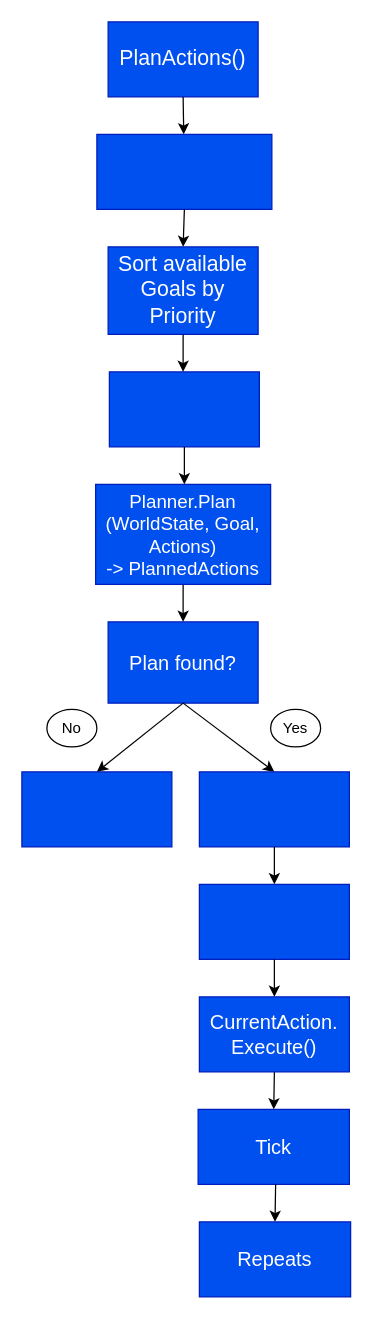
This 373x1319 diagram has some shape labels left out. Each missing label, with the centre of its shape:
"EcxecutePlan()" goes at (273,809).
"Log failure, exit" goes at (96,809).
"Select first relevant goal" goes at (183,409).
"Stop currntly running actions. Call OnInterrupt()" goes at (184,171).
"Take first action in CurrentPlan" goes at (273,921).
